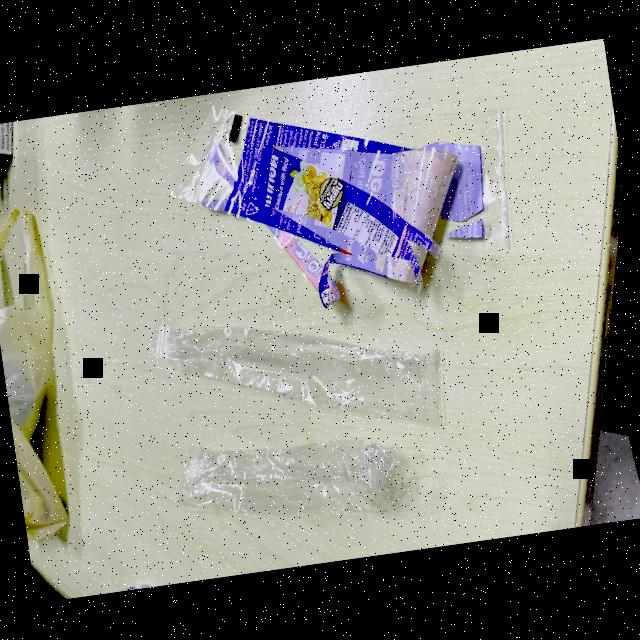scrap_plastic: (156, 65, 540, 325), (148, 269, 466, 456), (174, 416, 420, 546)
